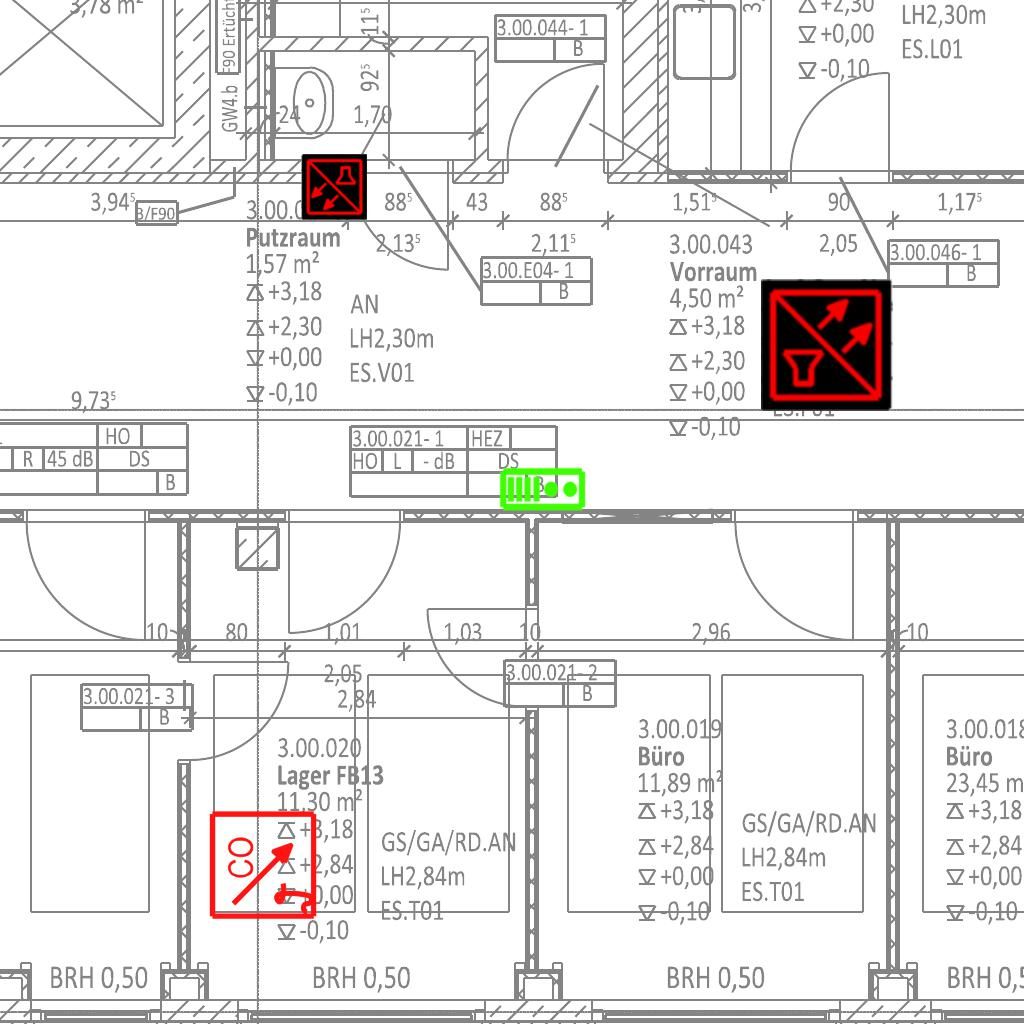Gegensprechanlage_mit_Video: (499, 465, 587, 512)
OKW_Multisensormelder_(Kombination_optischer_Rauch-Kahlenmonoxid_Waerme-Melder): (761, 279, 893, 411), (301, 154, 367, 220)
ROA_Rauchmelder_optisch_mit_Signalgeber_(Sockelsirene): (208, 808, 321, 921)
